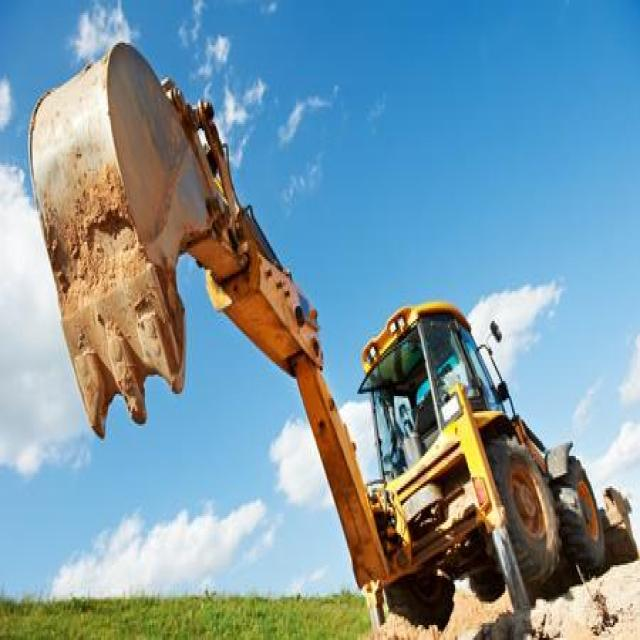Excavadora: (27, 32, 636, 629)
